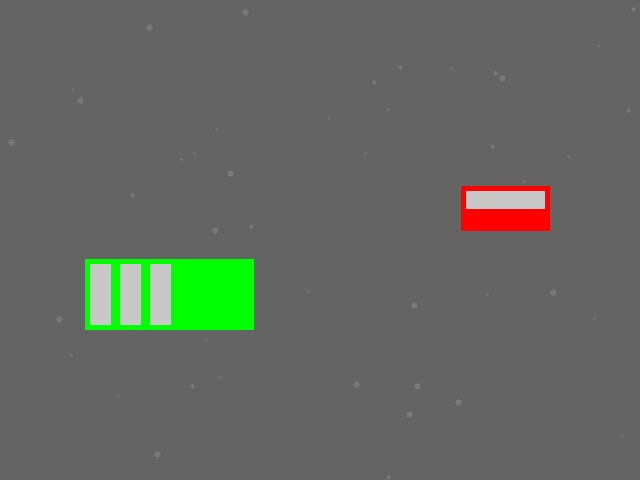bus: (85, 259, 253, 329)
car: (461, 186, 549, 230)
